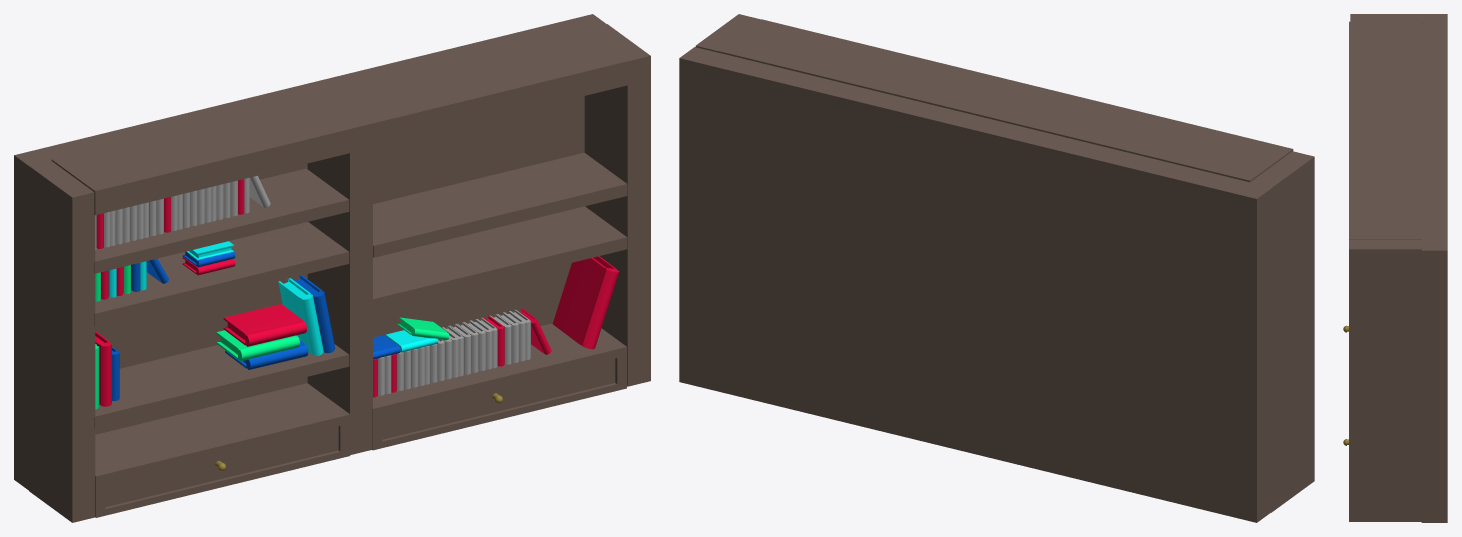
File: BookshelfwithBooks&Colour2.fbx
The picture shows the model from 3 angles, left to right: view 1: azimuth 30°, elevation 25°; view 2: azimuth 150°, elevation 25°; view 3: azimuth 270°, elevation 25°; orthographic projection. The views are drawn at different scales.
Visible parts, largest first — view 1: polySurface181; view 2: polySurface181; view 3: polySurface181.
Part boxes in pixels (x1,y1,x2,y2): polySurface181: (14,14,650,522); polySurface181: (679,14,1314,522); polySurface181: (1343,14,1447,522).
Bounding box in the file's own units: 159 × 86.03 × 29.61.
